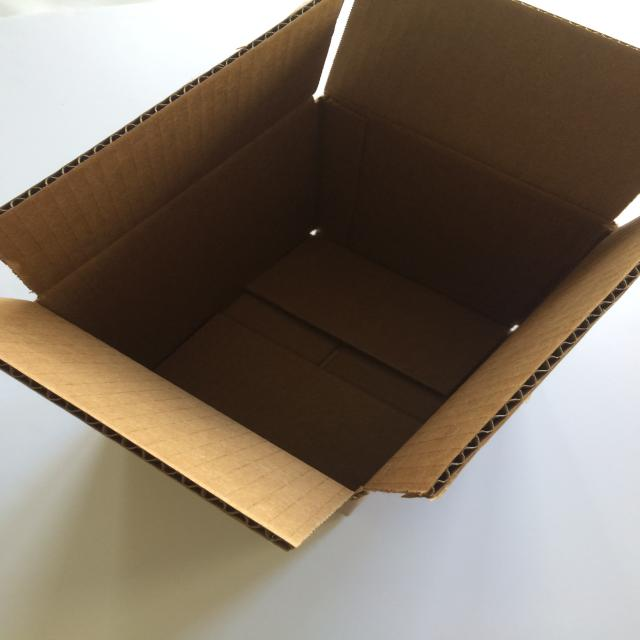cardboard: (0, 0, 639, 551)
